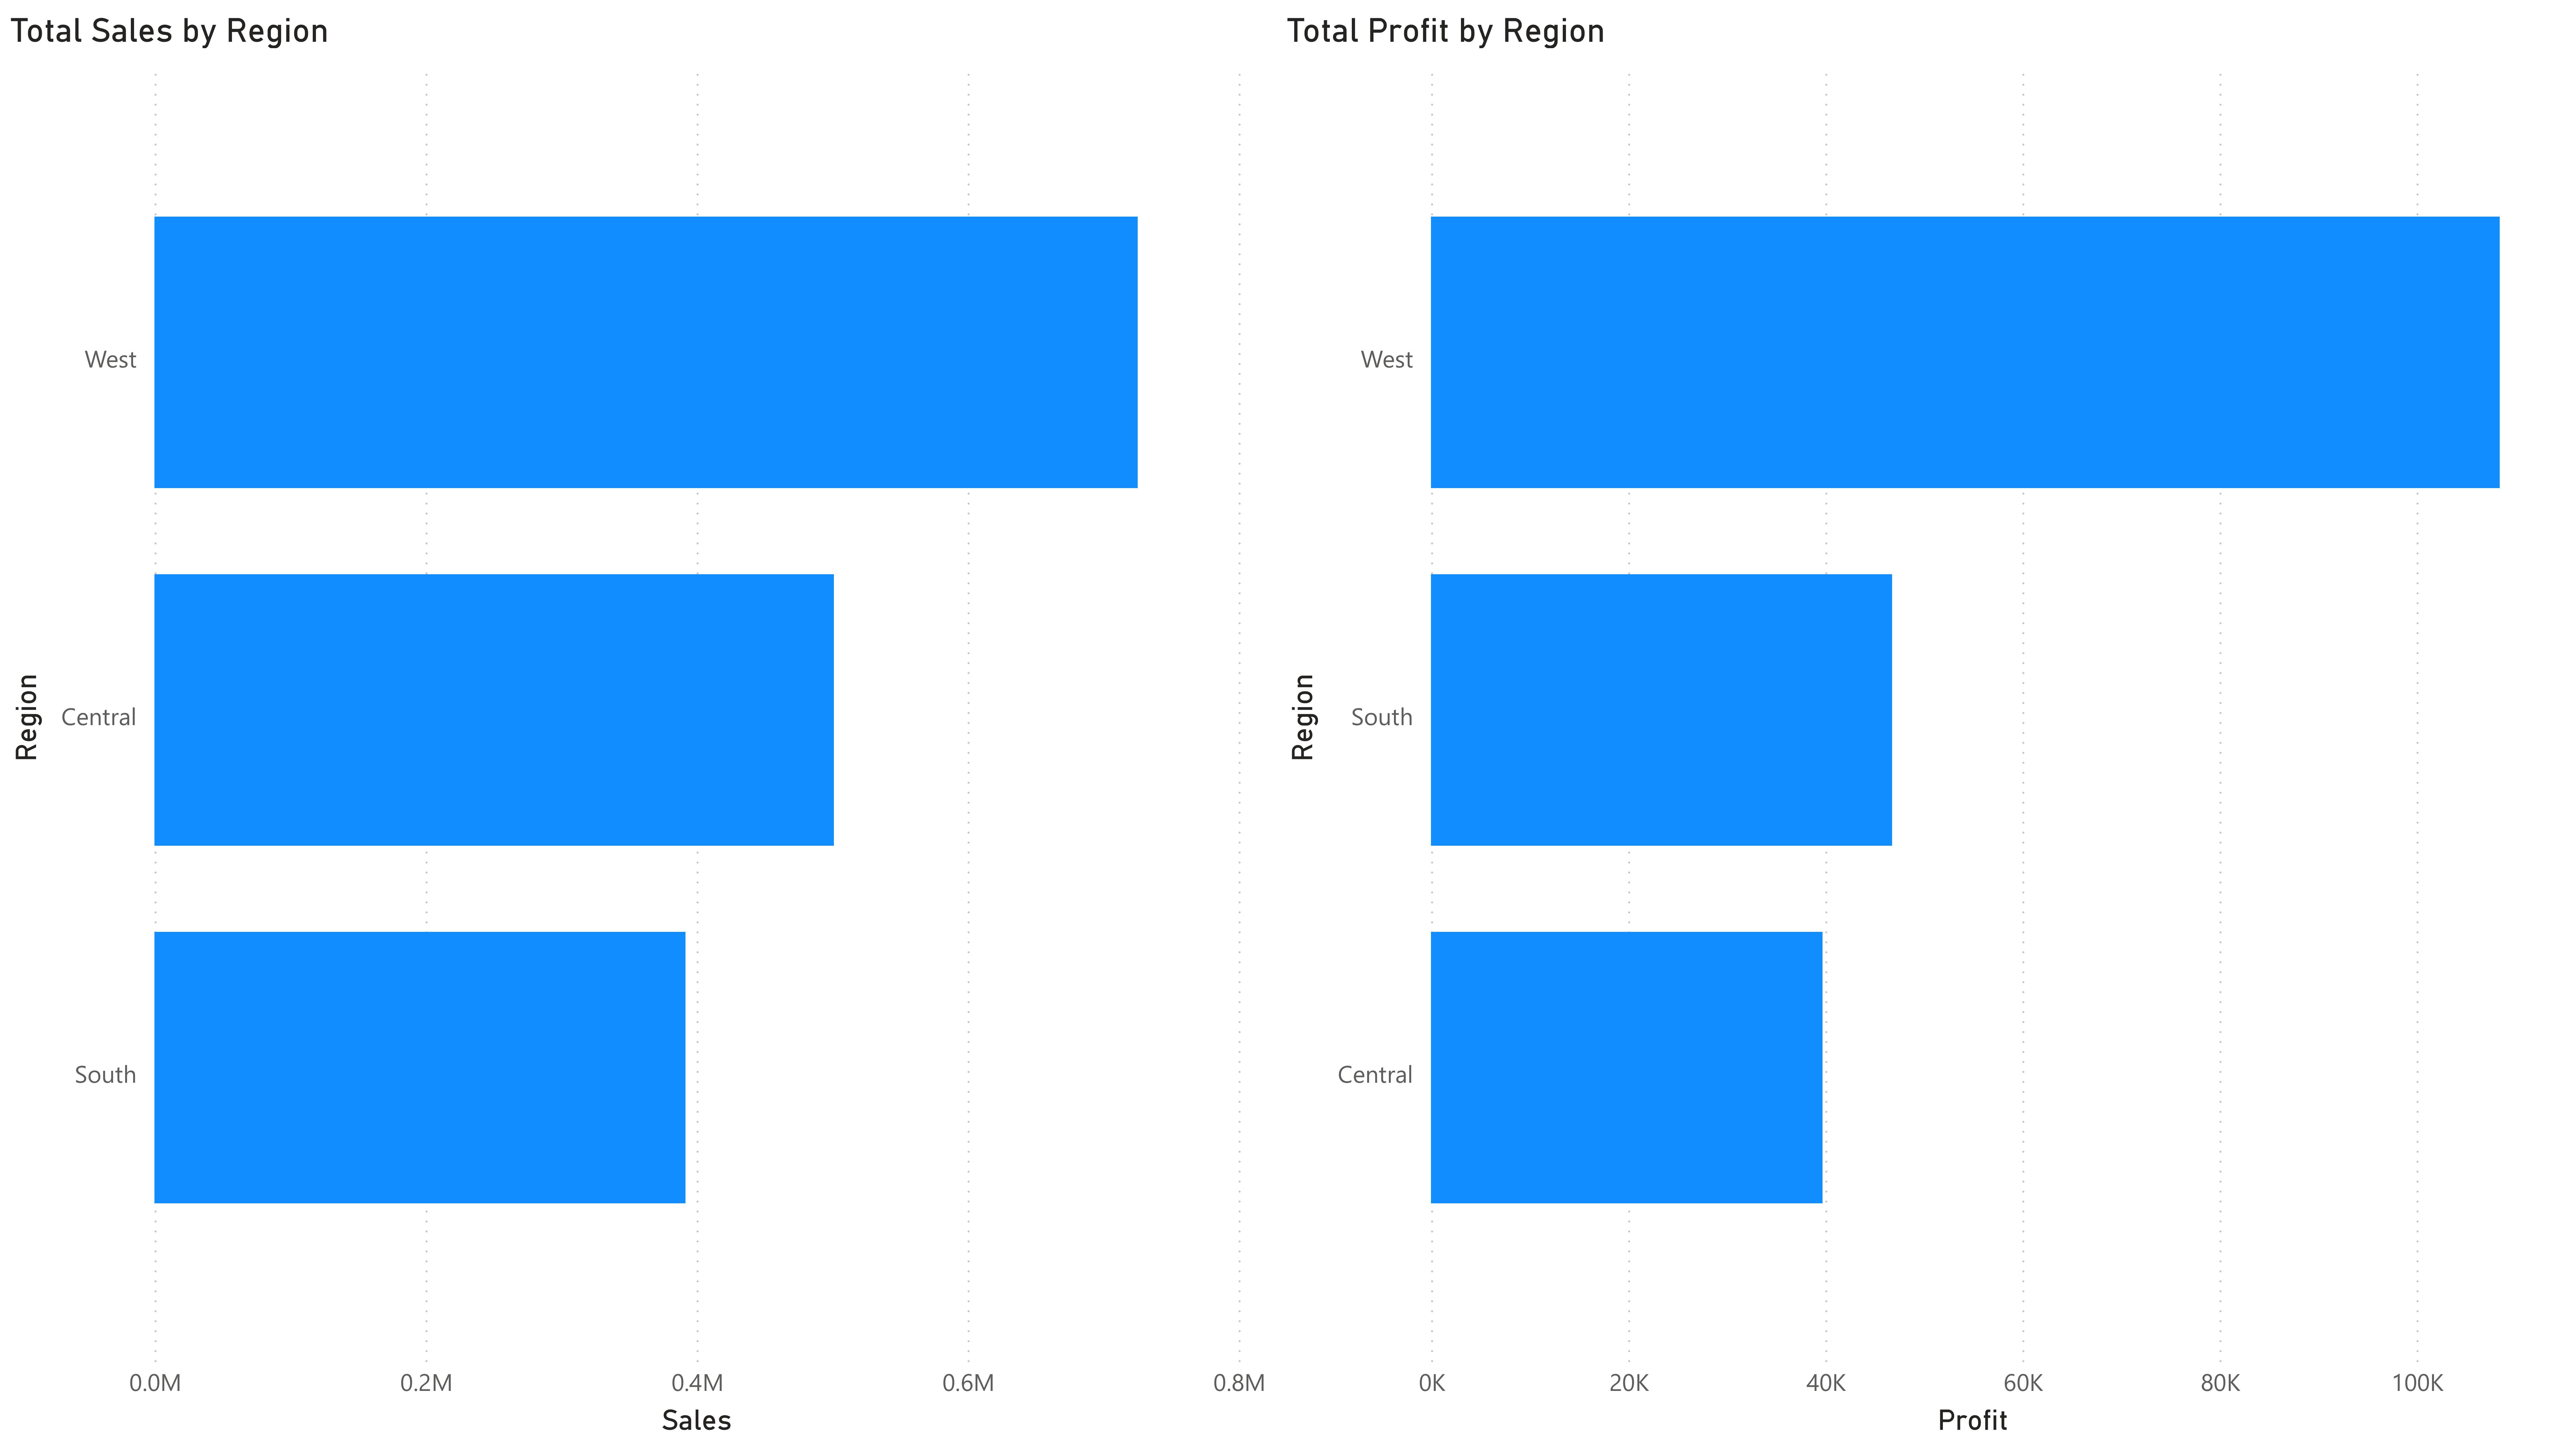

What the dashboard file says about the page in this screenshot:
{"tool":"powerbi","page":{"name":"Regional Performance","canvas":[1280,720],"ordinal":1},"visuals":[{"type":"clusteredBarChart","title":"Total Sales by Region","fields":{"Category":["superstore_sales_cleaned.region"],"Y":["superstore_sales_cleaned.sales"]},"box":[0,0,640,720],"z":0},{"type":"clusteredBarChart","title":"Total Profit by Region","fields":{"Category":["superstore_sales_cleaned.region"],"Y":["superstore_sales_cleaned.profit"]},"box":[640,0,640,720],"z":1}]}

Visuals, with their boxes in screenshot pixels (x1, y1, x2, y2), scaled from the page's 1280x720 canvas onto the 2553x1456 screenshot:
"Total Sales by Region" clusteredBarChart: [0, 0, 1276, 1456]
"Total Profit by Region" clusteredBarChart: [1276, 0, 2553, 1456]
